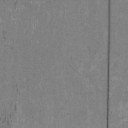surface scratch: (106, 0, 110, 128)
